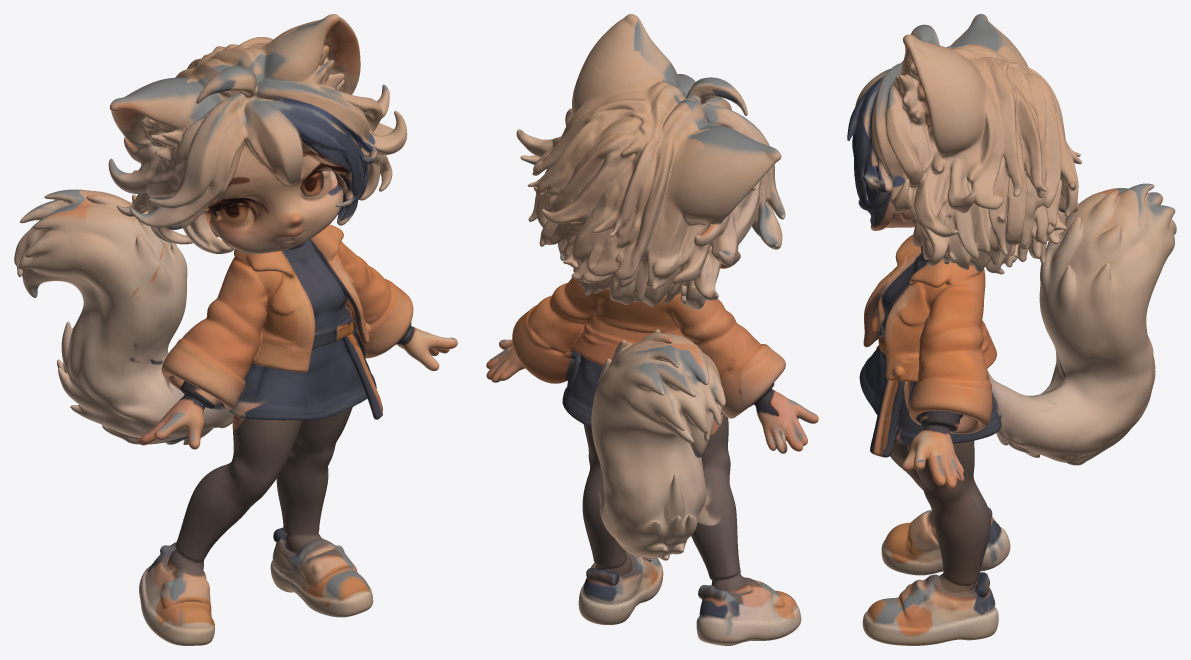
Rendered from cat-eared girl 3d model.glb.
3 views of the same model, side by side, from view 1: azimuth 30°, elevation 25°; view 2: azimuth 150°, elevation 25°; view 3: azimuth 270°, elevation 25° (orthographic). The views are drawn at different scales.
Parts seen in each view (by area): view 1: tripo_node_b7c74d21-16c5-42ca-b021-b91ed360fd24; view 2: tripo_node_b7c74d21-16c5-42ca-b021-b91ed360fd24; view 3: tripo_node_b7c74d21-16c5-42ca-b021-b91ed360fd24.
Boxes of the visible parts, <box> form: tripo_node_b7c74d21-16c5-42ca-b021-b91ed360fd24: <box>14,14,457,645</box>; tripo_node_b7c74d21-16c5-42ca-b021-b91ed360fd24: <box>486,14,818,645</box>; tripo_node_b7c74d21-16c5-42ca-b021-b91ed360fd24: <box>847,14,1176,645</box>.
Size of the model in its own units: 0.5904 by 1 by 0.496.
Materials: 1 (1 with a texture image).
